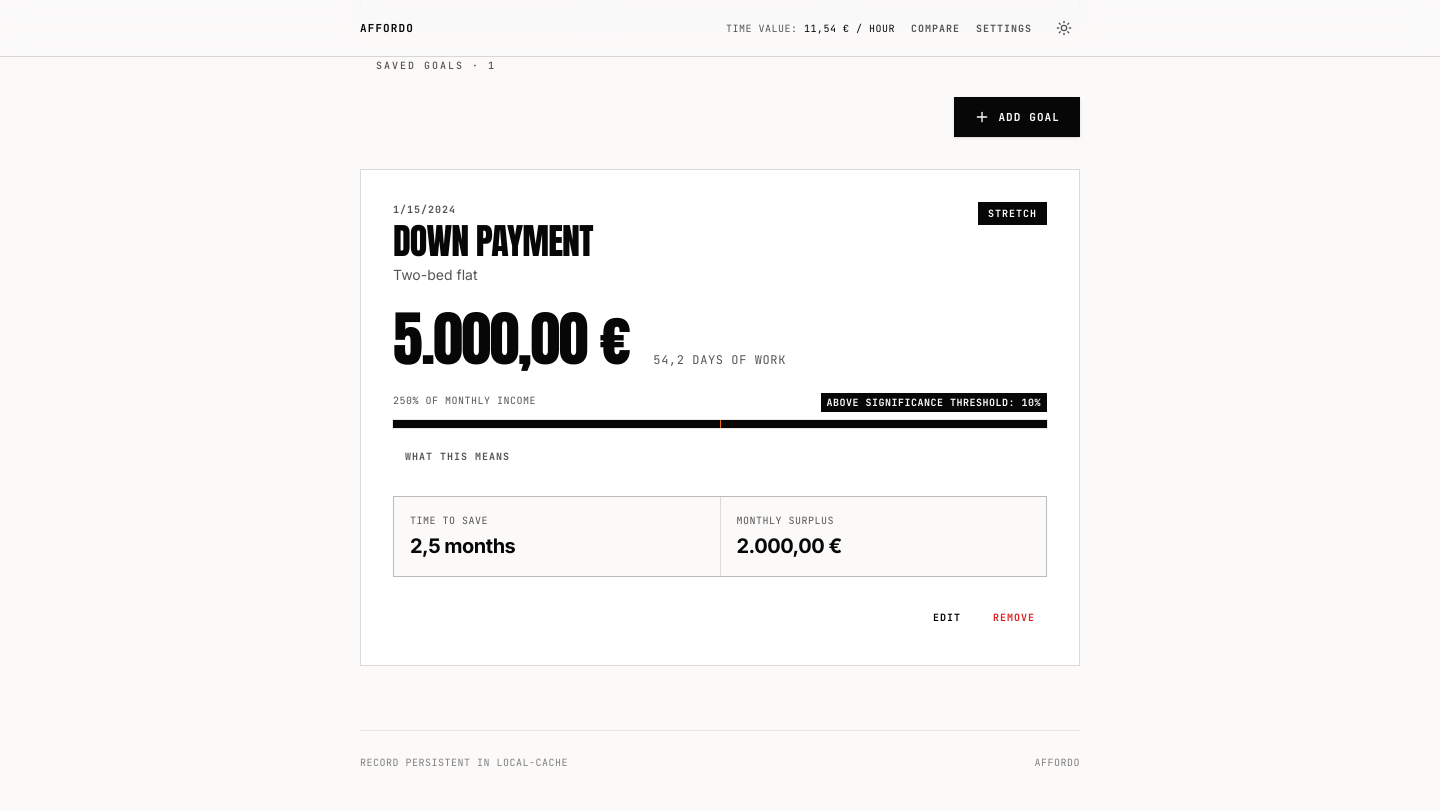
Test case: Editing a goal — saving updates it in place › saves an edited note
(page scrolled)
Click the button "Edit": (947,617) [921, 601, 973, 633]
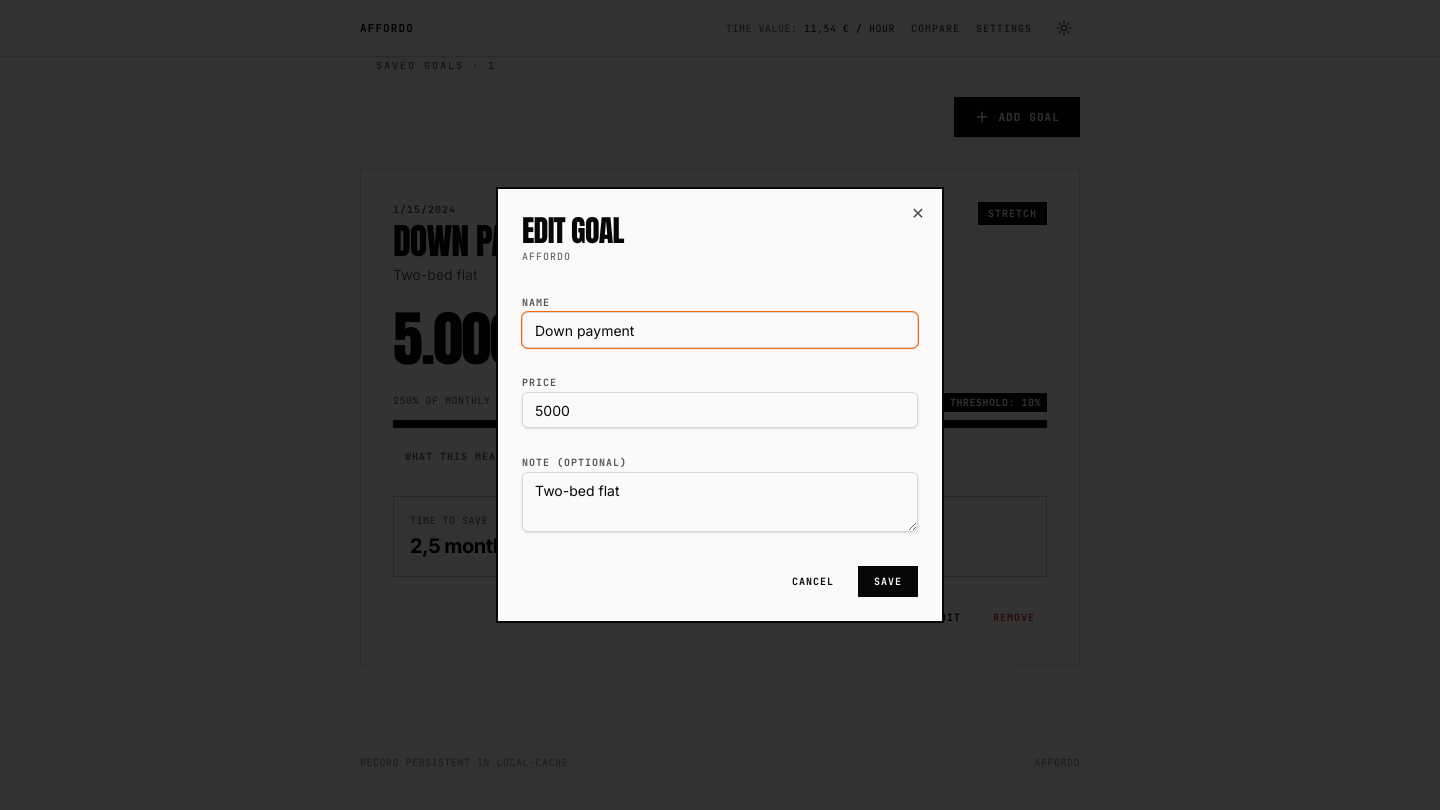
Replace the text in the text box labelled "Note (optional)" with "Three-bed flat": (720,502) [522, 472, 918, 532]
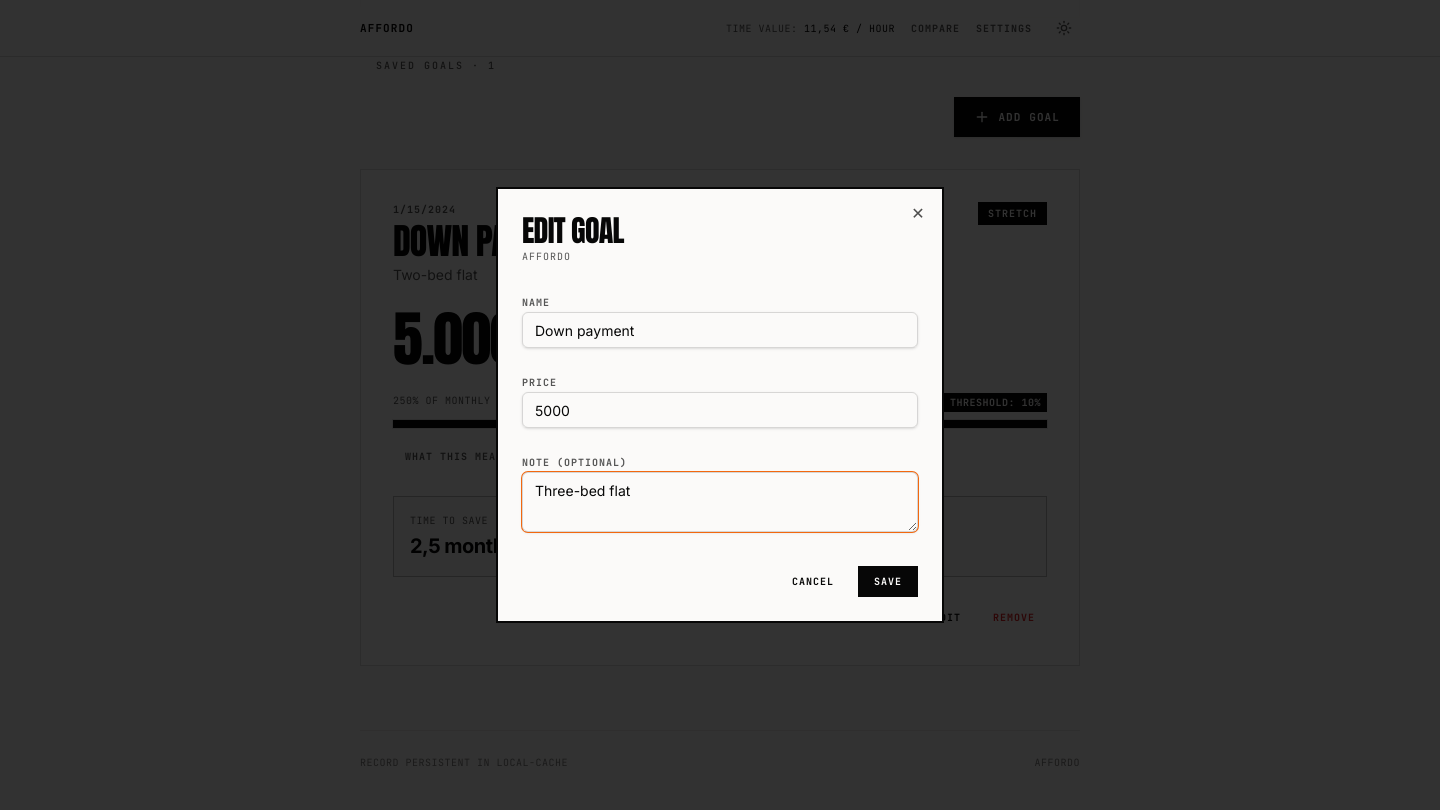
Click the button "Save": (888,582) [858, 566, 918, 597]
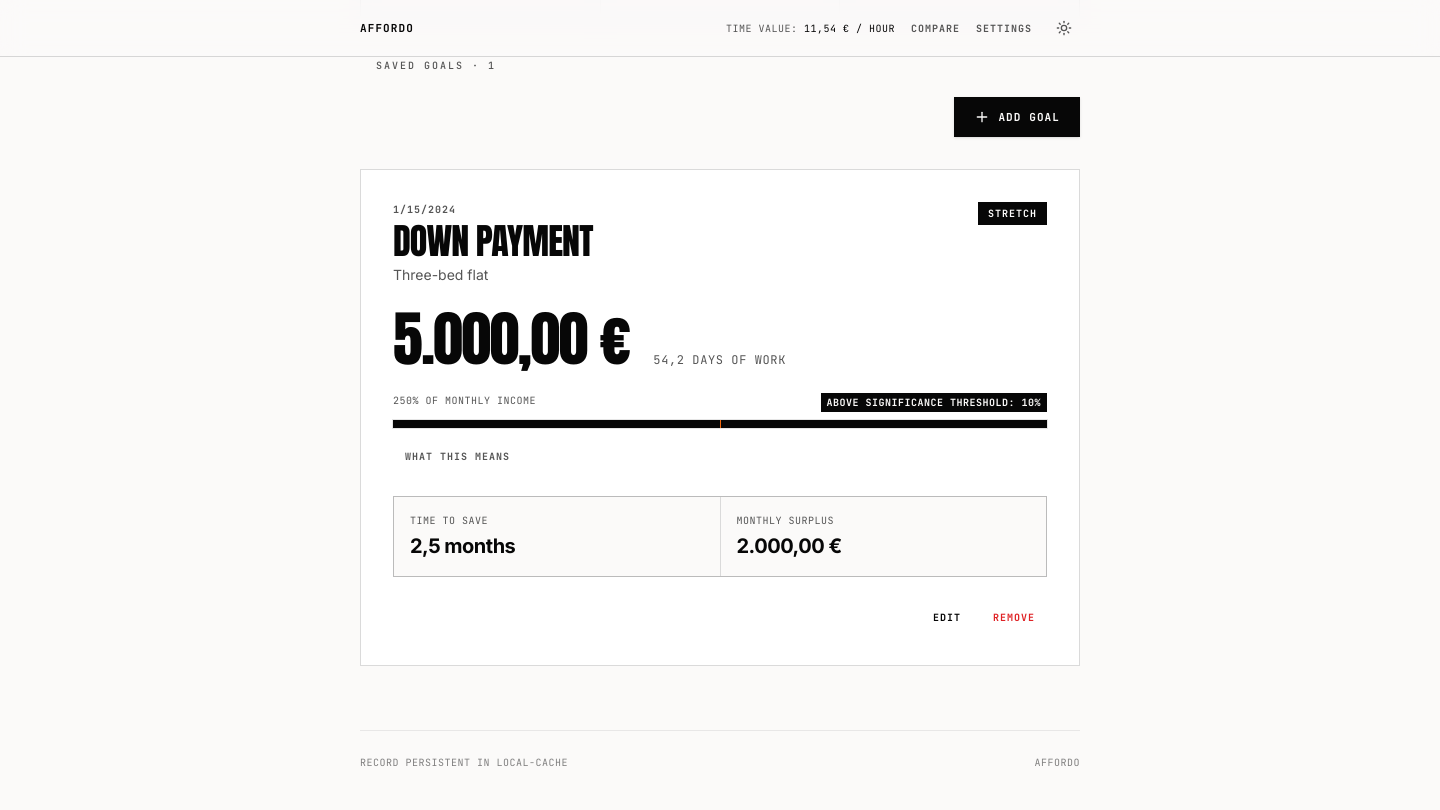
Check: the text "Three-bed flat" is shown, box [393, 266, 488, 283]
Check: the text with test id "goal-note" reads "Three-bed flat", box [393, 266, 488, 283]
